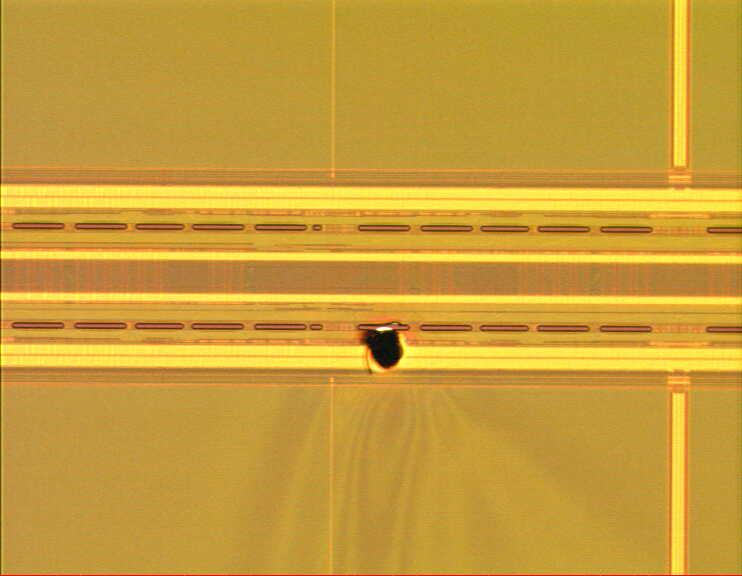PIQ PARTICLE: (358, 319, 411, 374)
